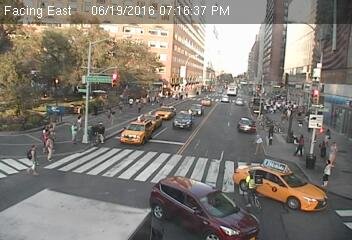neg: (193, 99, 213, 126), (157, 109, 177, 136), (135, 131, 155, 157)
pos: (23, 144, 46, 174), (249, 129, 266, 151), (292, 132, 308, 154)
